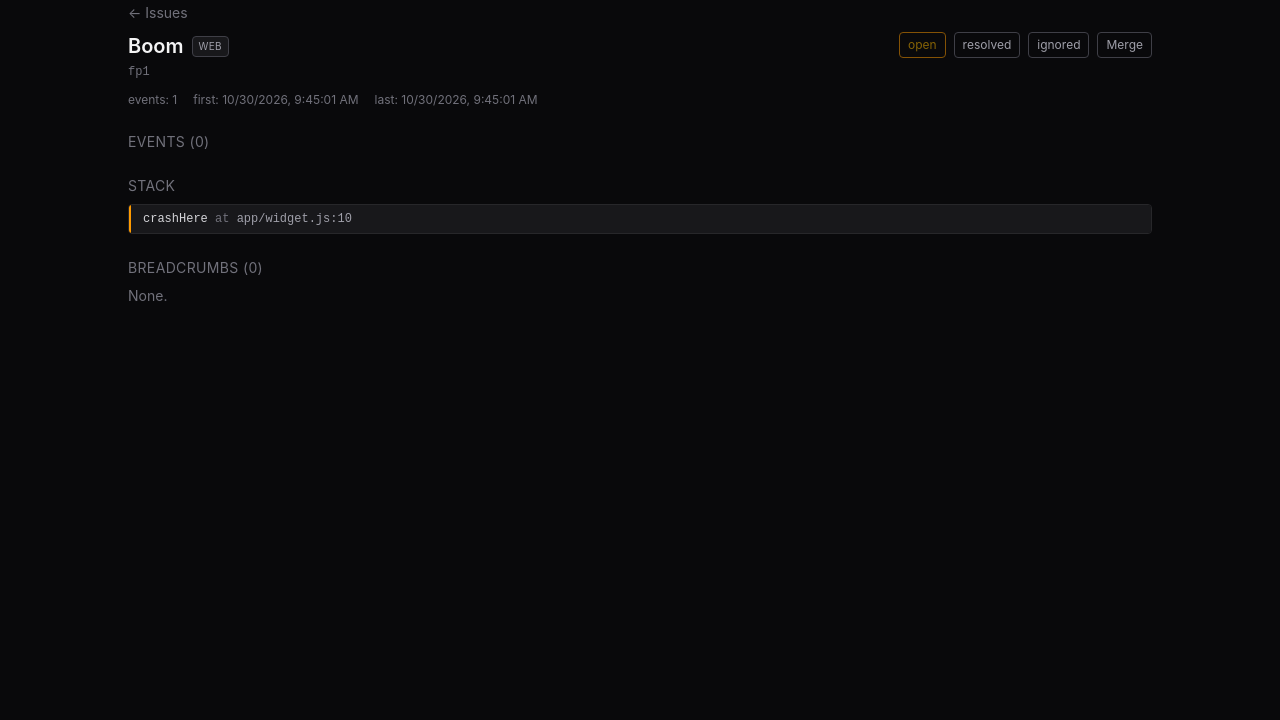
Test: Issue page — v0.9 CONTRACT (SPEC §24 issue merge) › a successful merge navigates to the target issue
Click the button "Merge". click: (1125, 45)
box: top-left (1098, 32), bottom-right (1152, 58)
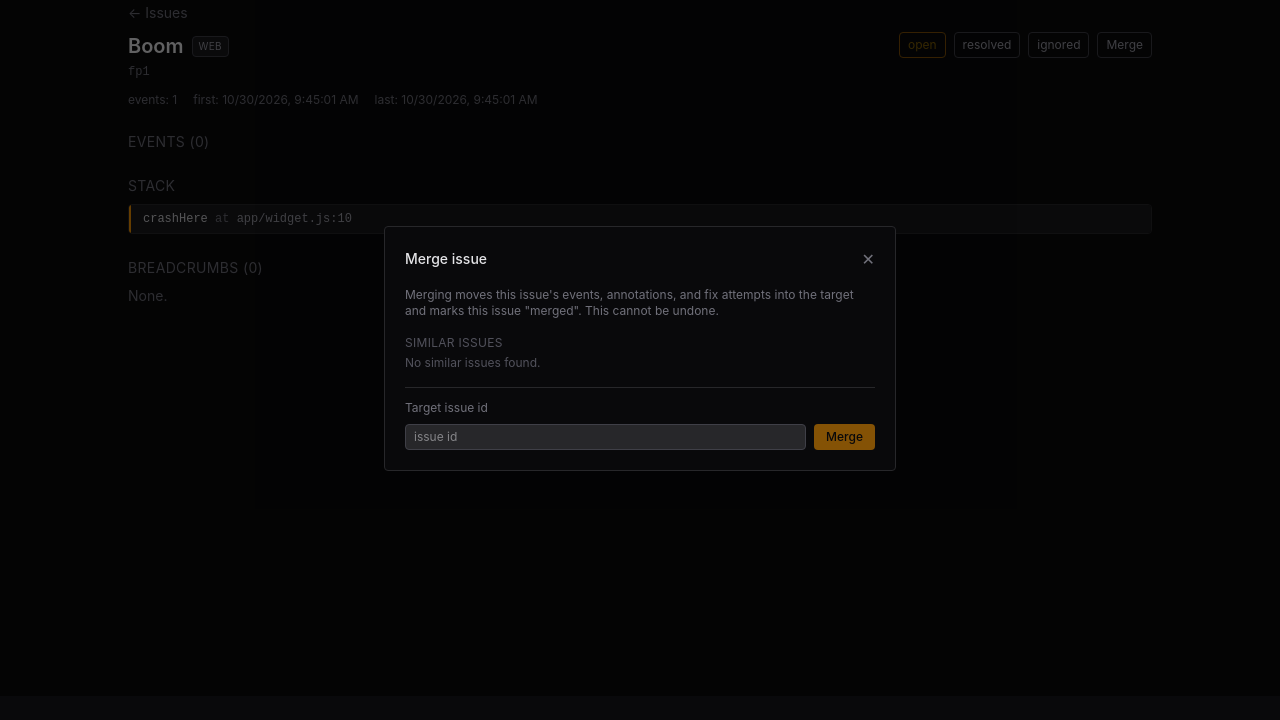
Expected: the text "No similar issues found." is shown, top-left (405, 354), bottom-right (540, 370)
Type "i9" into the field labelled "Target issue id". click: (606, 436)
box: top-left (405, 424), bottom-right (806, 450)
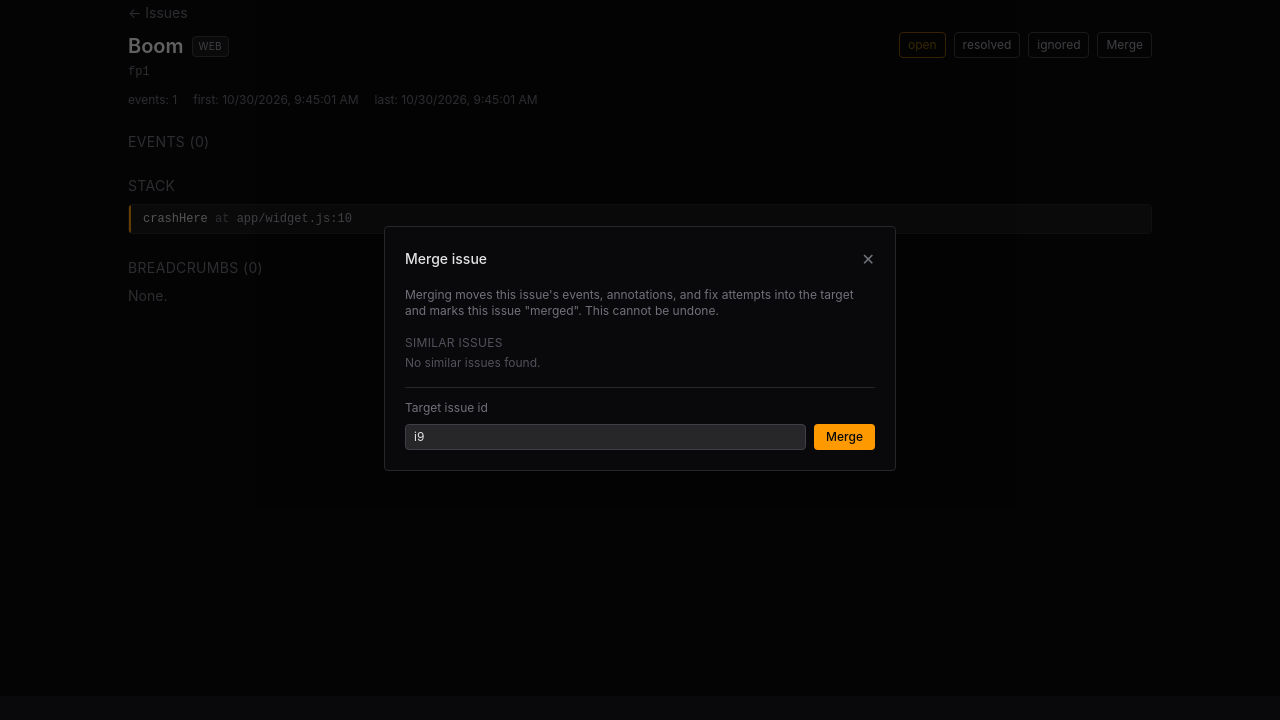
Click the button "Merge". click: (845, 436)
box: top-left (814, 424), bottom-right (875, 450)
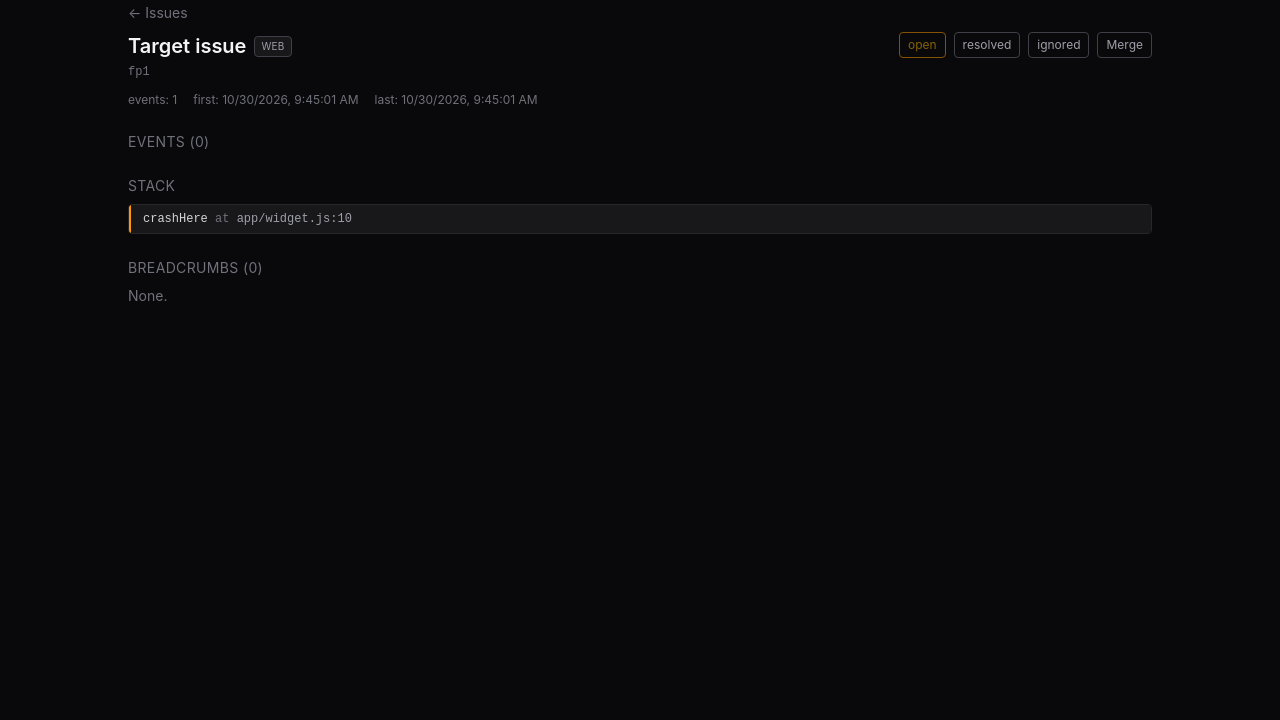
Expected: the heading "Target issue" is shown, top-left (128, 32), bottom-right (246, 60)
